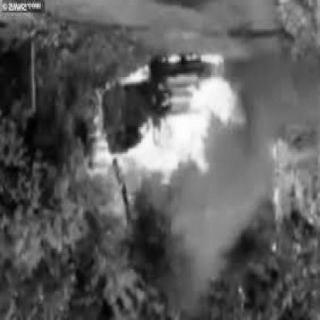Fire: (87, 52, 245, 210)
Smoke: (192, 176, 246, 258), (254, 73, 294, 164)
